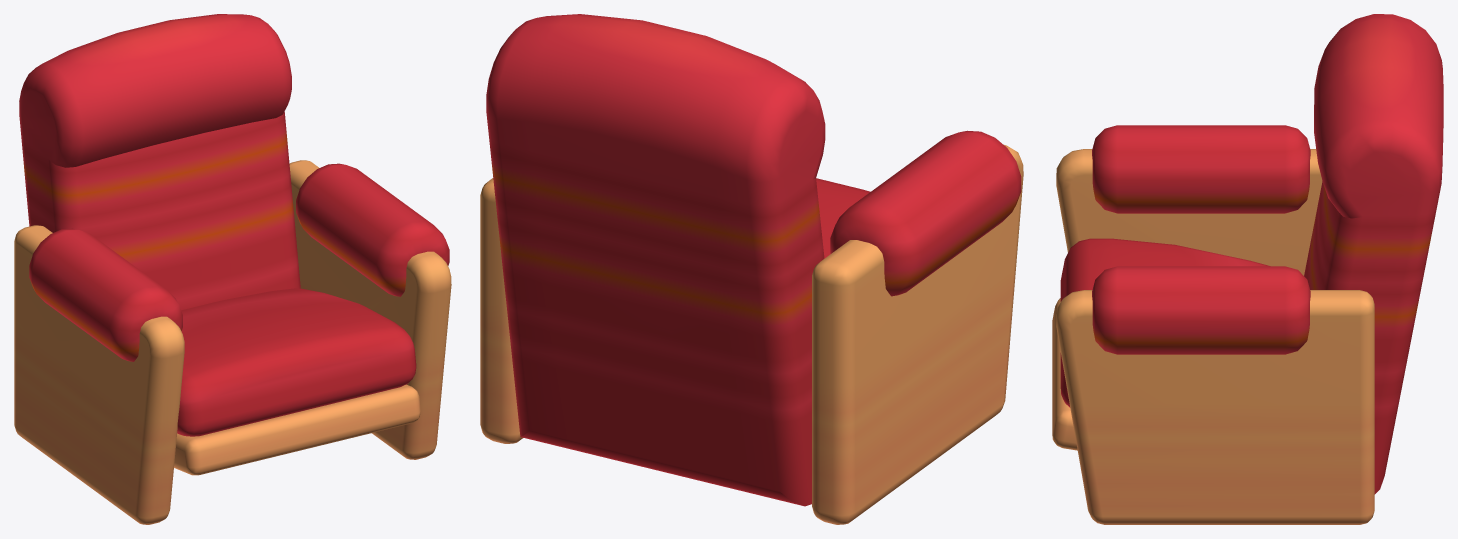
File: armchair-18.glb
3 renders of one model, left to right at view 1: azimuth 30°, elevation 25°; view 2: azimuth 150°, elevation 25°; view 3: azimuth 270°, elevation 25°, orthographic. The views are drawn at different scales.
Visible parts, largest first — view 1: Armchair_18; view 2: Armchair_18; view 3: Armchair_18.
Boxes of the visible parts, x1,y1,x2,y2 form: Armchair_18: [14, 14, 451, 524]; Armchair_18: [480, 14, 1023, 524]; Armchair_18: [1052, 14, 1443, 524].
Size of the model in its own units: 1.01 by 1.05 by 0.9378.
1 material, 1 textured.
